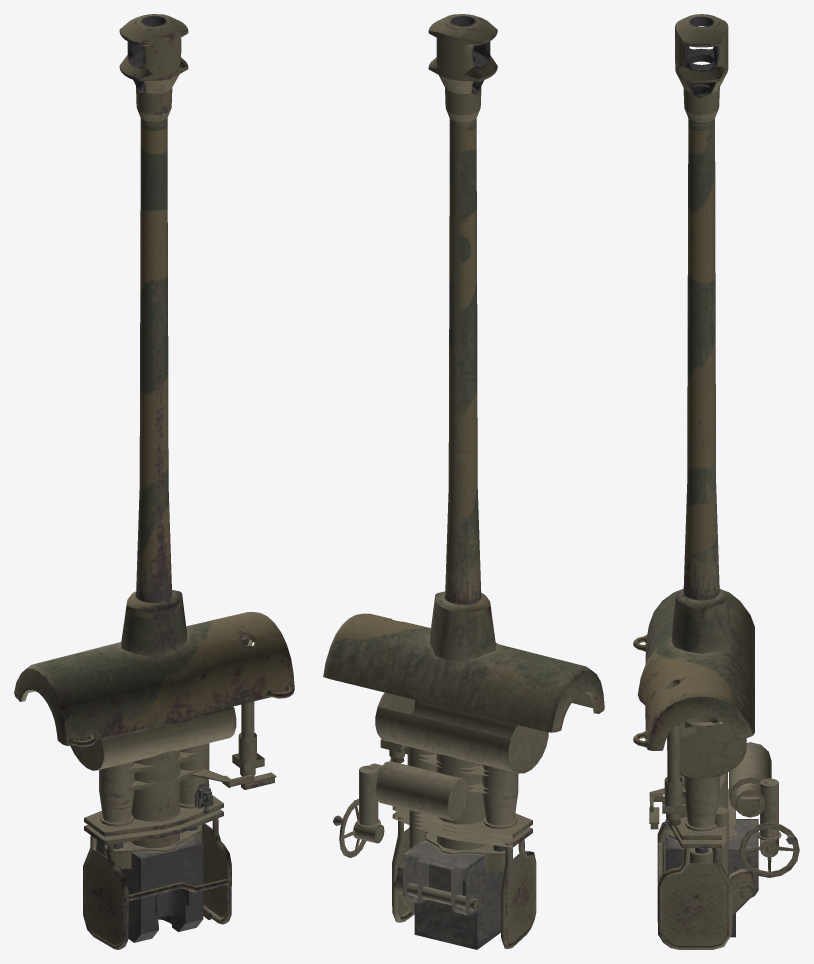
File: Gun_07.glb
The picture shows the model from 3 angles, left to right: view 1: azimuth 30°, elevation 25°; view 2: azimuth 150°, elevation 25°; view 3: azimuth 270°, elevation 25°; orthographic projection.
Parts seen in each view (by area): view 1: set_0_group_0; view 2: set_0_group_0; view 3: set_0_group_0.
Boxes of the visible parts, left/top/right/bottom form: set_0_group_0: left=14, top=14, right=294, bottom=949; set_0_group_0: left=323, top=14, right=604, bottom=949; set_0_group_0: left=633, top=14, right=799, bottom=949.
Bounding box in the file's own units: 1.22 × 4.54 × 0.7601.
Materials: 1 (1 with a texture image).
